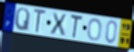0: (104, 20, 118, 45)
O: (87, 18, 103, 42)
Q: (14, 7, 31, 33)
T: (33, 8, 47, 35), (70, 14, 84, 40)
X: (50, 12, 68, 37)
